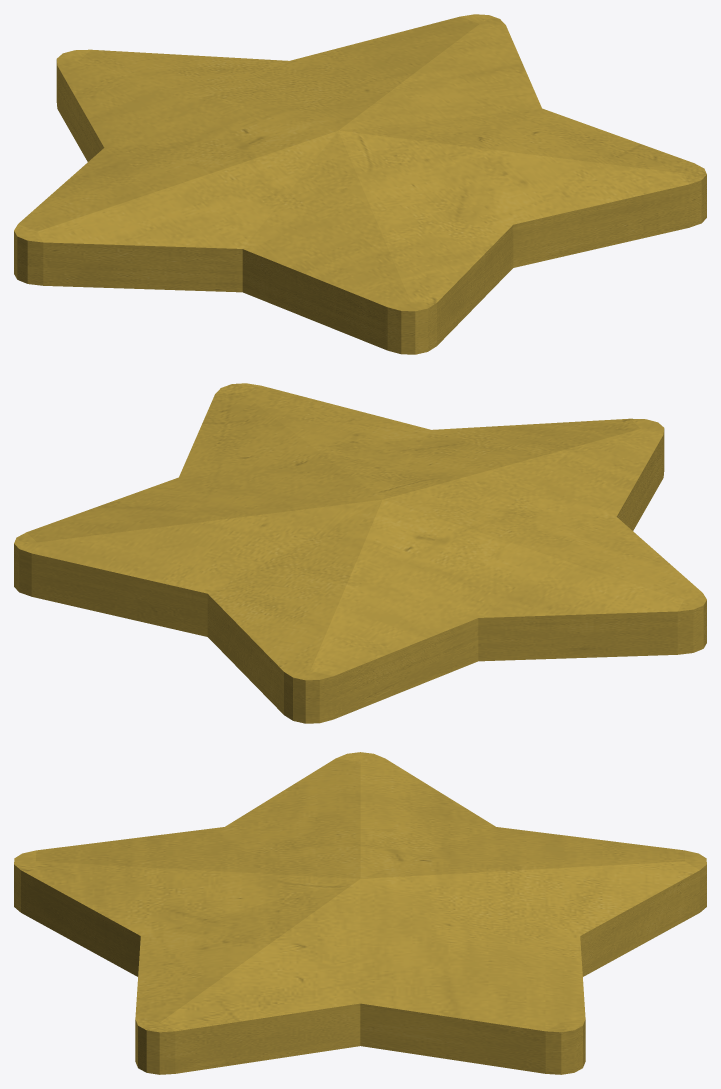
Rendered from Star.glb.
3 renders of one model, top to bottom at view 1: azimuth 30°, elevation 25°; view 2: azimuth 150°, elevation 25°; view 3: azimuth 270°, elevation 25°, orthographic.
Parts seen in each view (by area): view 1: Star; view 2: Star; view 3: Star.
Part boxes in pixels (box(x1,y1,x2,y2)): Star: box(14, 14, 706, 354); Star: box(14, 383, 706, 723); Star: box(14, 752, 706, 1074).
Size of the model in its own units: 1.72 by 0.2766 by 1.8.
1 material, 1 textured.
